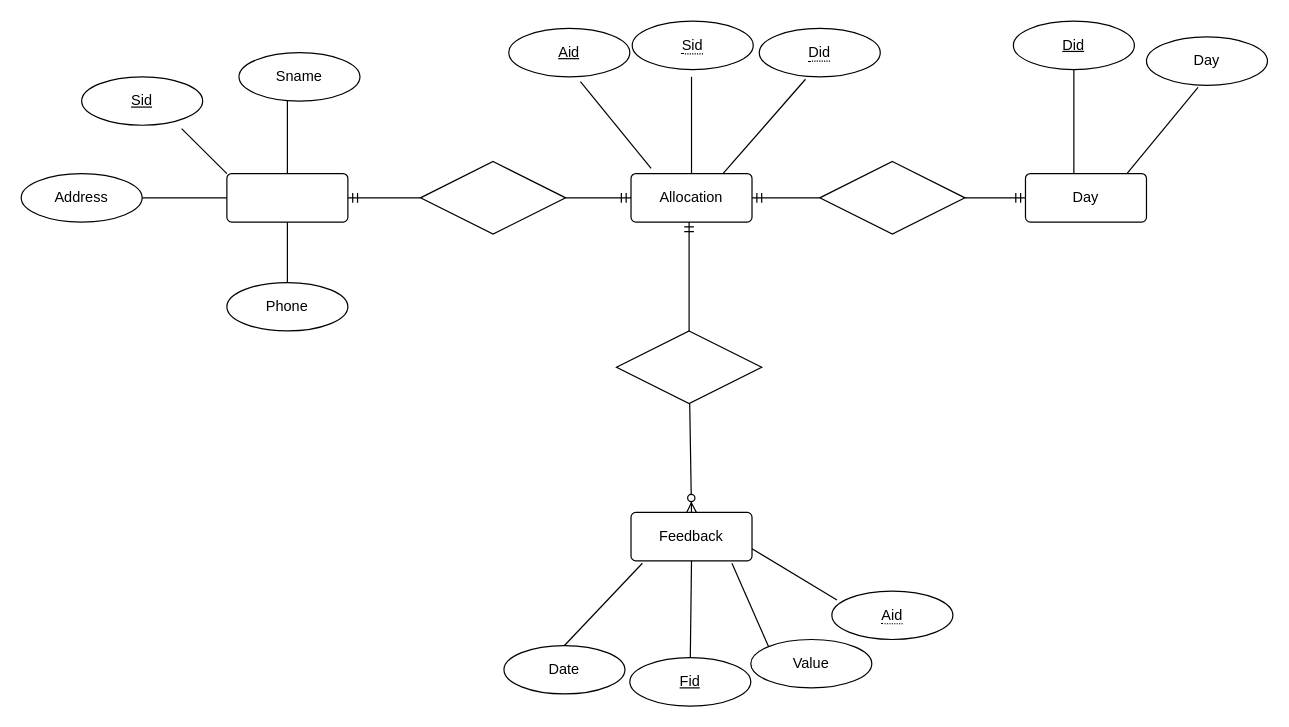
This 1289x727 diagram has some shape labels left out. The shapes that lost their labels are listed below. From the top down, each one's centre as x and y in pixels, then its label:
pixel 287 197: Staff
pixel 492 197: has allocation
pixel 892 197: has a day
pixel 688 367: has feedback
